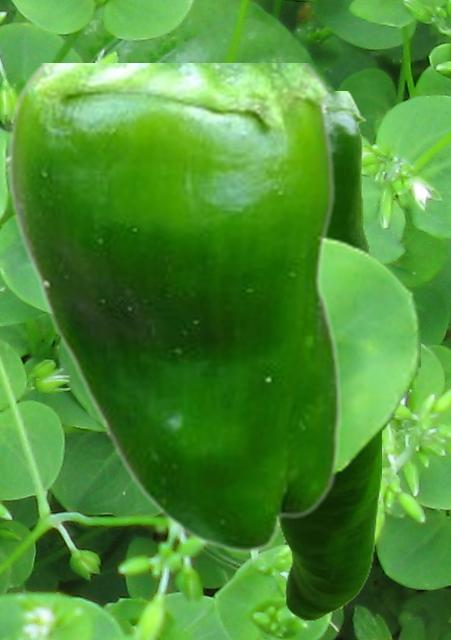green_chili: (5, 63, 340, 553), (280, 91, 380, 620)
